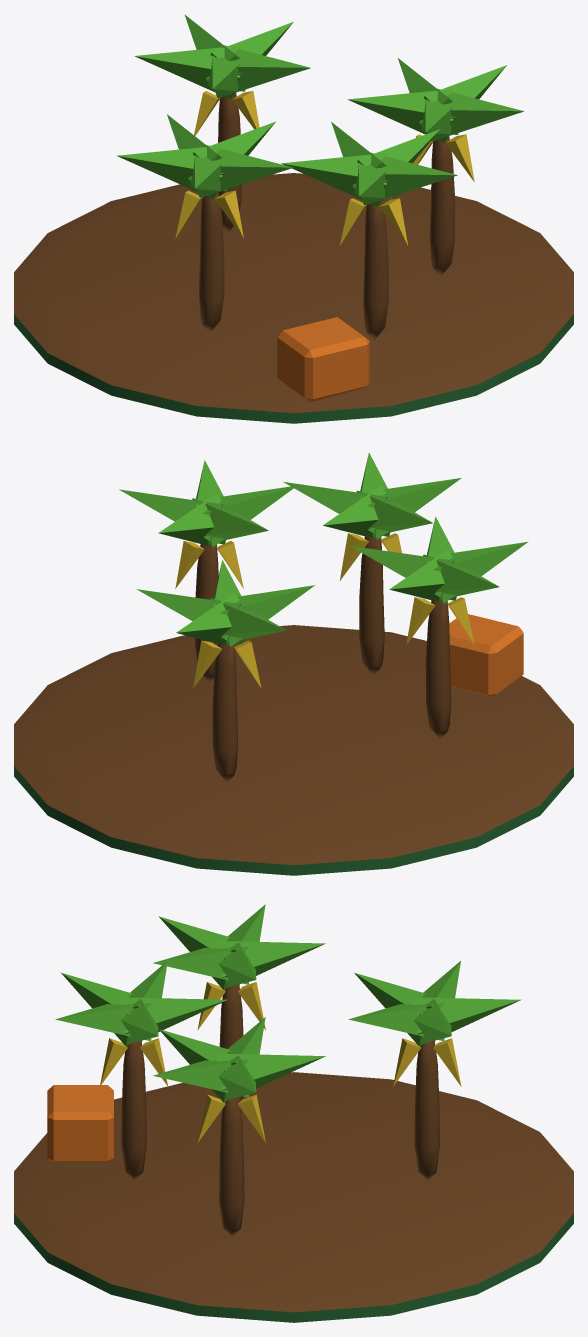
The picture shows the model from 3 angles, top to bottom: view 1: azimuth 30°, elevation 25°; view 2: azimuth 150°, elevation 25°; view 3: azimuth 270°, elevation 25°; orthographic projection.
Visible parts, largest first — view 1: fazenda_0_base, fazenda_1_torreta; view 2: fazenda_0_base, fazenda_1_torreta; view 3: fazenda_0_base, fazenda_1_torreta.
Part boxes in pixels (x1,y1,x2,y2): fazenda_0_base: (14, 173, 573, 423); fazenda_1_torreta: (116, 15, 523, 340); fazenda_0_base: (14, 614, 573, 875); fazenda_1_torreta: (119, 452, 528, 782); fazenda_0_base: (14, 1072, 573, 1322); fazenda_1_torreta: (55, 904, 521, 1237).
Bounding box in the file's own units: 1.28 × 0.5151 × 1.26.
